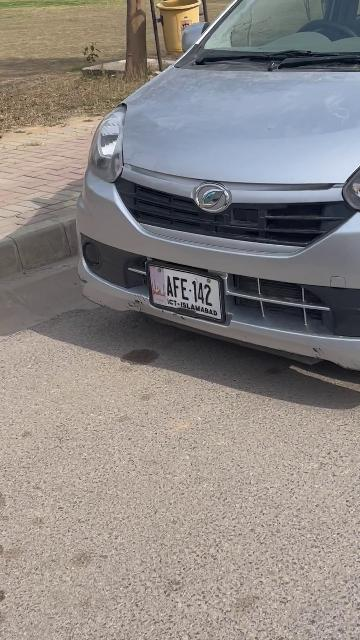plate: (147, 263, 223, 319)
